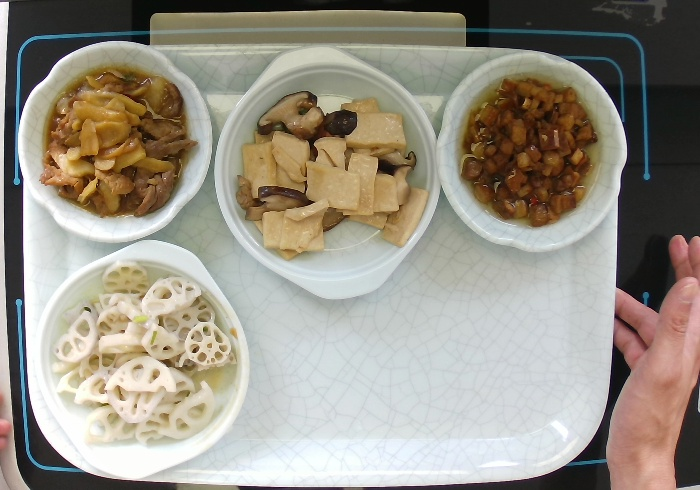JYsf-Ao_Yuan_Wan: (14, 36, 217, 246), (432, 47, 631, 256)
JYsf-Shuang_Er_Pan: (210, 39, 443, 305), (31, 235, 254, 483)
